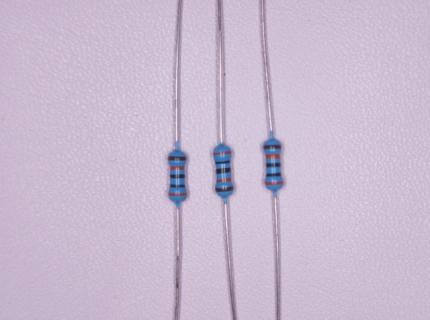Black band: (215, 167, 231, 175), (170, 183, 186, 189), (215, 159, 231, 165), (265, 162, 281, 168), (266, 172, 282, 177), (171, 174, 186, 179)
Brown band: (215, 186, 234, 193), (167, 156, 186, 161), (263, 145, 281, 150)
Orange band: (212, 150, 231, 156), (168, 192, 188, 197), (216, 177, 232, 183), (168, 166, 185, 171), (265, 181, 284, 185), (266, 154, 281, 159)
